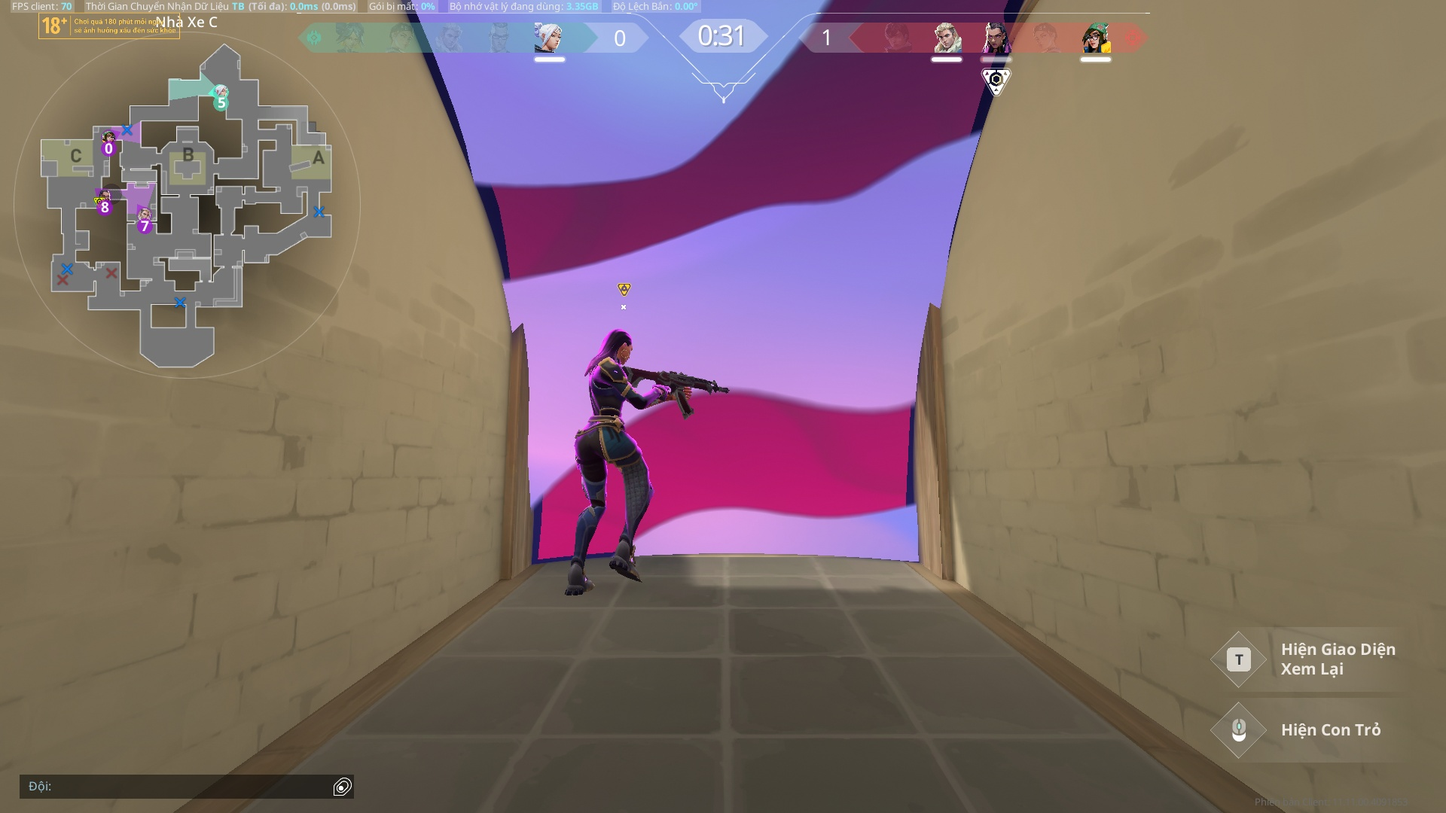body: (587, 358, 634, 417)
head: (606, 327, 632, 363)
